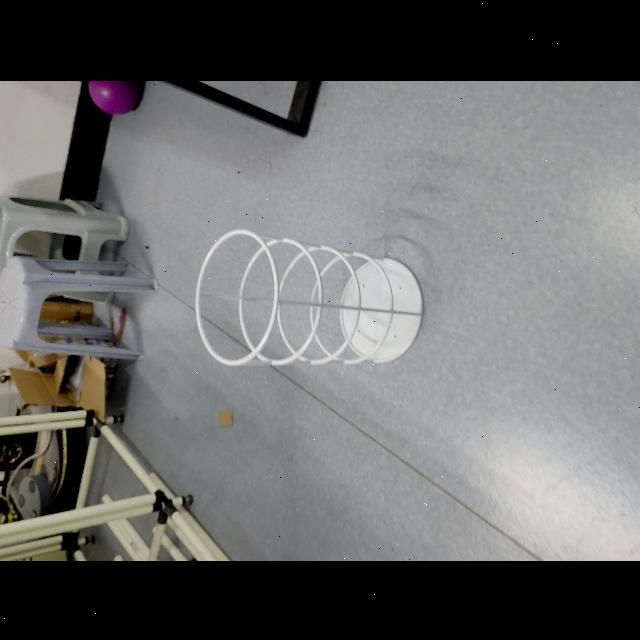S: (192, 226, 426, 372)
